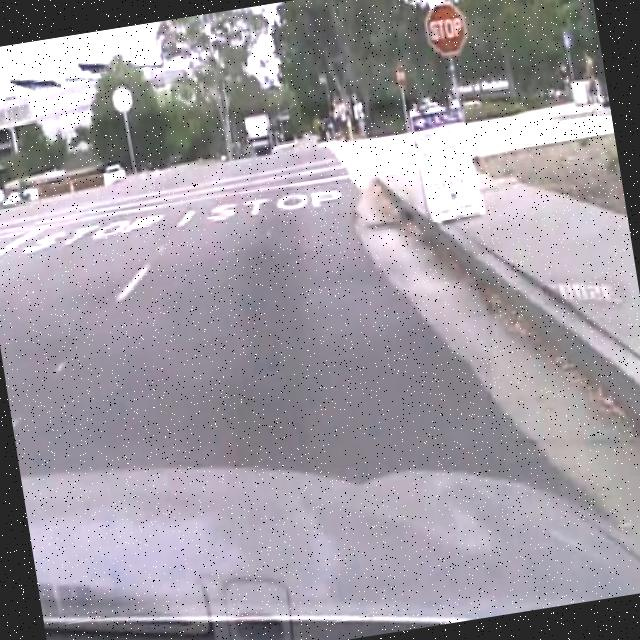Stop: (420, 0, 470, 60)
